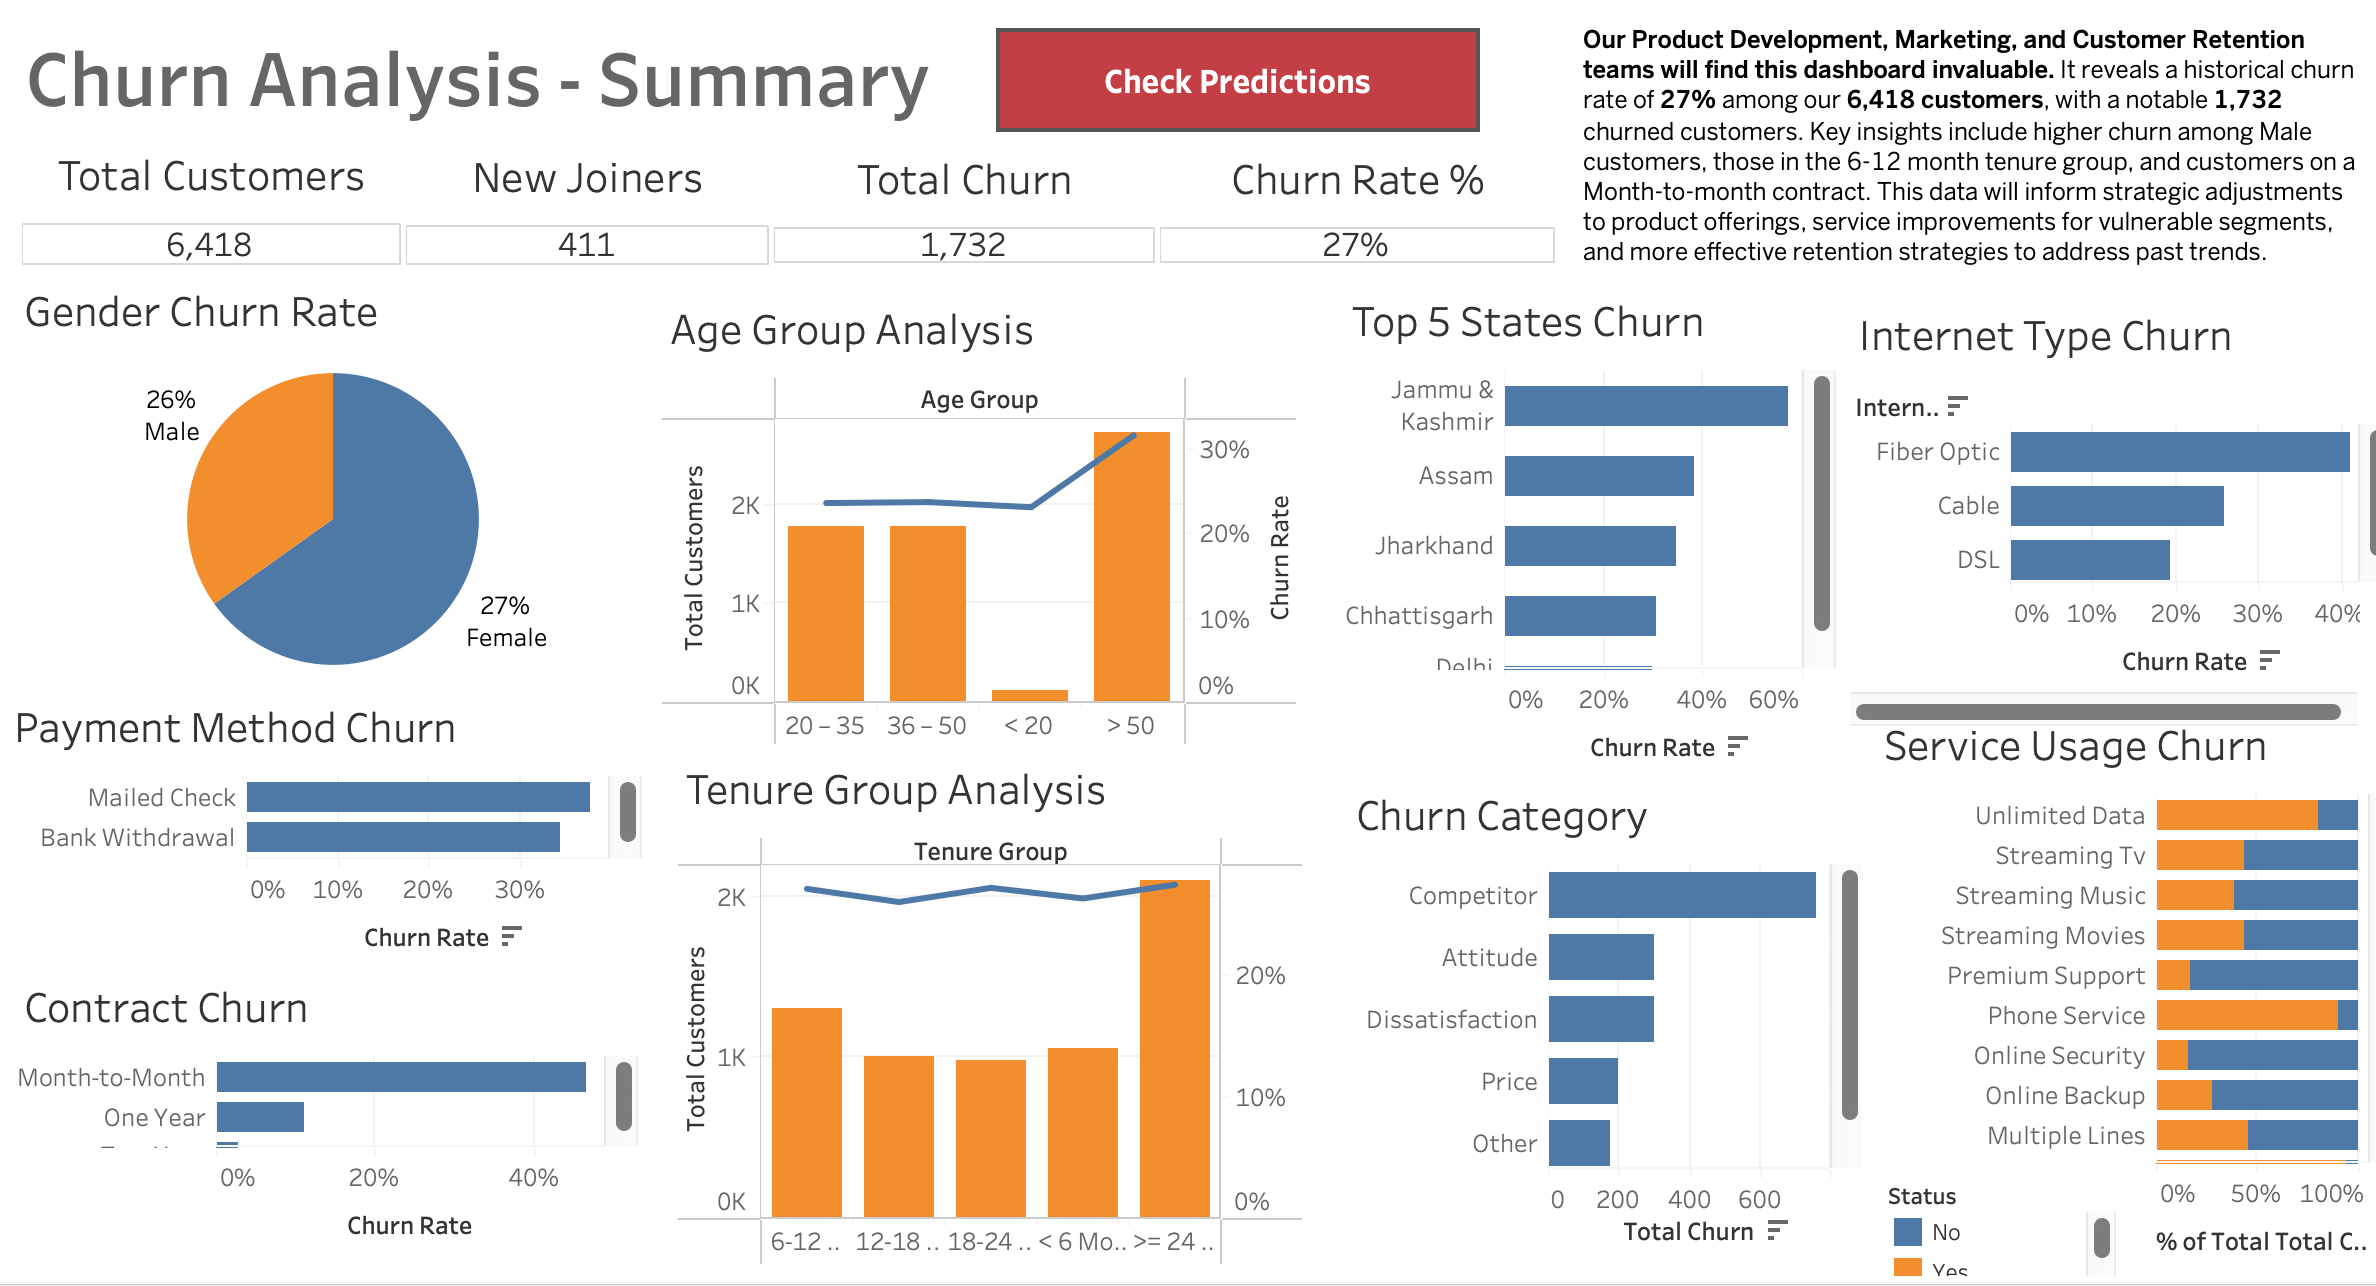

The page's visual inventory and layout, read from the dashboard file:
{"tool":"tableau","page":{"name":"Summary Dash","canvas":[1000,1000],"units":"permille","ordinal":1},"visuals":[{"type":"text","box":[10,15.6,392.5,88.9]},{"type":"text","box":[656.4,17.2,329.5,204.4]},{"type":"dashboard-object","box":[414.9,21.8,200.8,81.1]},{"type":"worksheet","title":"Total Customers","mark":"Automatic","box":[10.8,107.6,157.7,99.8]},{"type":"worksheet","title":"New Joiners","mark":"Automatic","box":[170.1,109.2,151,98.3]},{"type":"worksheet","title":"Total Churn","mark":"Automatic","box":[322.8,110.8,158.5,95.2]},{"type":"worksheet","title":"Churn Rate %","mark":"Automatic","box":[483,110.8,164.3,95.2]},{"type":"worksheet","title":"Gender Churn Rate","mark":"Pie","box":[8.1,213.7,262.8,314.5]},{"type":"worksheet","title":"Top 5 States Churn","mark":"Automatic","rows":["state"],"cols":["Calculation_621496774929047561"],"box":[559.3,221.5,204.2,385.3]},{"type":"worksheet","title":"Age Group Analysis","mark":"Automatic","rows":["Calculation_621496774928707590","Calculation_621496774929047561"],"cols":["Calculation_621496774928130050"],"box":[276.7,227.2,263.6,354.8]},{"type":"worksheet","title":"Internet Type Churn","mark":"Automatic","rows":["internet_type"],"cols":["Calculation_621496774929047561"],"box":[768.9,232.5,224.6,333.3]},{"type":"worksheet","title":"Payment Method Churn","mark":"Automatic","rows":["payment_method"],"cols":["Calculation_621496774929047561"],"box":[4.1,539,263.6,216.4]},{"type":"worksheet","title":"Service Usage Churn","mark":"Automatic","rows":["Pivot Field Names"],"box":[780.3,552.4,218.1,439.5]},{"type":"worksheet","title":"Tenure Group Analysis","mark":"Automatic","rows":["Calculation_621496774928707590","Calculation_621496774929047561"],"cols":["Calculation_621496774928420868"],"box":[283.2,586,259.6,400.5]},{"type":"worksheet","title":"Churn Category","mark":"Automatic","rows":["churn_category"],"cols":["Calculation_621496774928957448"],"box":[560.6,606.2,214,366.9]},{"type":"worksheet","title":"Contract Churn","mark":"Automatic","rows":["contract"],"cols":["Calculation_621496774929047561"],"box":[8.1,756.7,257.9,223.1]},{"type":"legend","title":"Service Usage Churn","param":"[federated.0i9ohq80fl21sz15e6mk51hvcptx].[none:Pivot Field Values:nk]","box":[785.2,920.7,96,75.3]}]}

Visuals, with their boxes on the dashboard's canvas, which has no fixed pixel size, in thousandths of its width and height (x1, y1, x2, y2). These are canvas units, not pixel positions in the 2376x1286 screenshot, which may show the page scaled, cropped or inside an application window:
text: bbox(10, 16, 402, 104)
text: bbox(656, 17, 986, 222)
dashboard-object: bbox(415, 22, 616, 103)
"Total Customers" worksheet: bbox(11, 108, 168, 207)
"New Joiners" worksheet: bbox(170, 109, 321, 208)
"Total Churn" worksheet: bbox(323, 111, 481, 206)
"Churn Rate %" worksheet: bbox(483, 111, 647, 206)
"Gender Churn Rate" worksheet (Pie marks): bbox(8, 214, 271, 528)
"Top 5 States Churn" worksheet: bbox(559, 222, 764, 607)
"Age Group Analysis" worksheet: bbox(277, 227, 540, 582)
"Internet Type Churn" worksheet: bbox(769, 232, 994, 566)
"Payment Method Churn" worksheet: bbox(4, 539, 268, 755)
"Service Usage Churn" worksheet: bbox(780, 552, 998, 992)
"Tenure Group Analysis" worksheet: bbox(283, 586, 543, 986)
"Churn Category" worksheet: bbox(561, 606, 775, 973)
"Contract Churn" worksheet: bbox(8, 757, 266, 980)
"Service Usage Churn" legend: bbox(785, 921, 881, 996)
